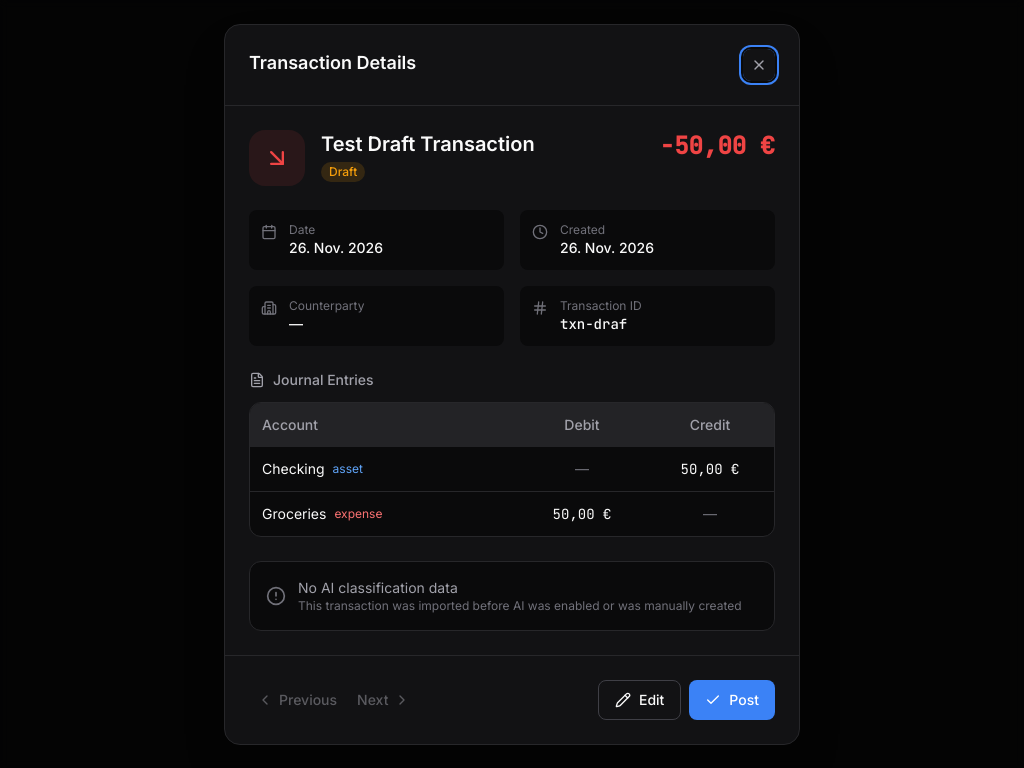
Test: TransactionDetailModal › Danger Zone › collapsed by default › shows Danger Zone summary in edit mode
Click the button "Edit".
click(640, 700)  # box [598,680,681,720]
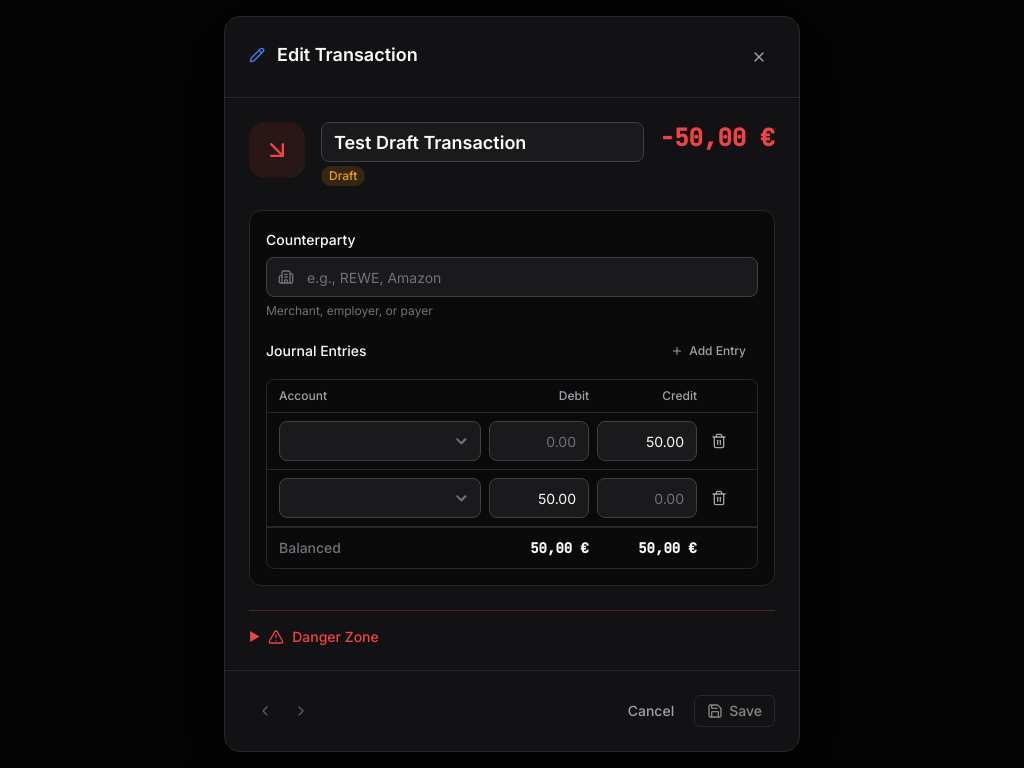
expect the heading "▶ Danger Zone" is shown: met, box [249,628,379,645]
expect the element showing "▶ Danger Zone" is shown: met, box [249,610,775,647]
